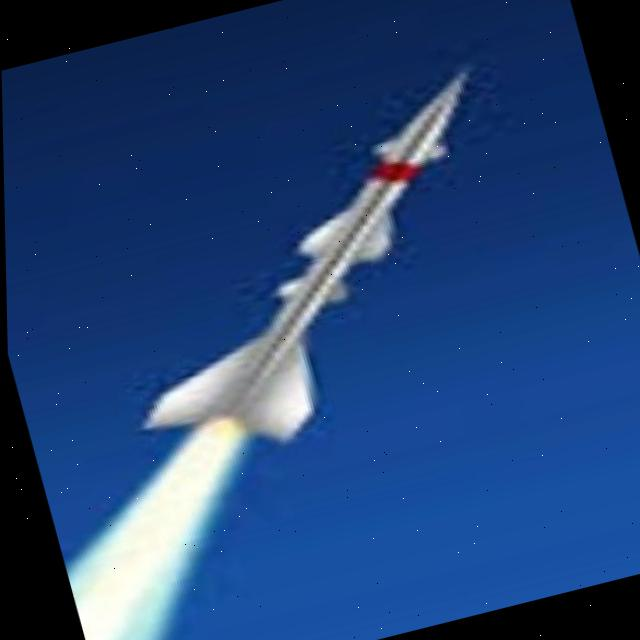missile: (62, 58, 562, 476)
